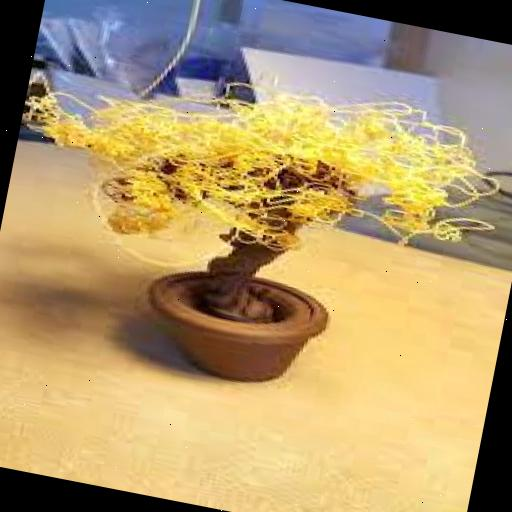spaghetti: (75, 31, 503, 283)
